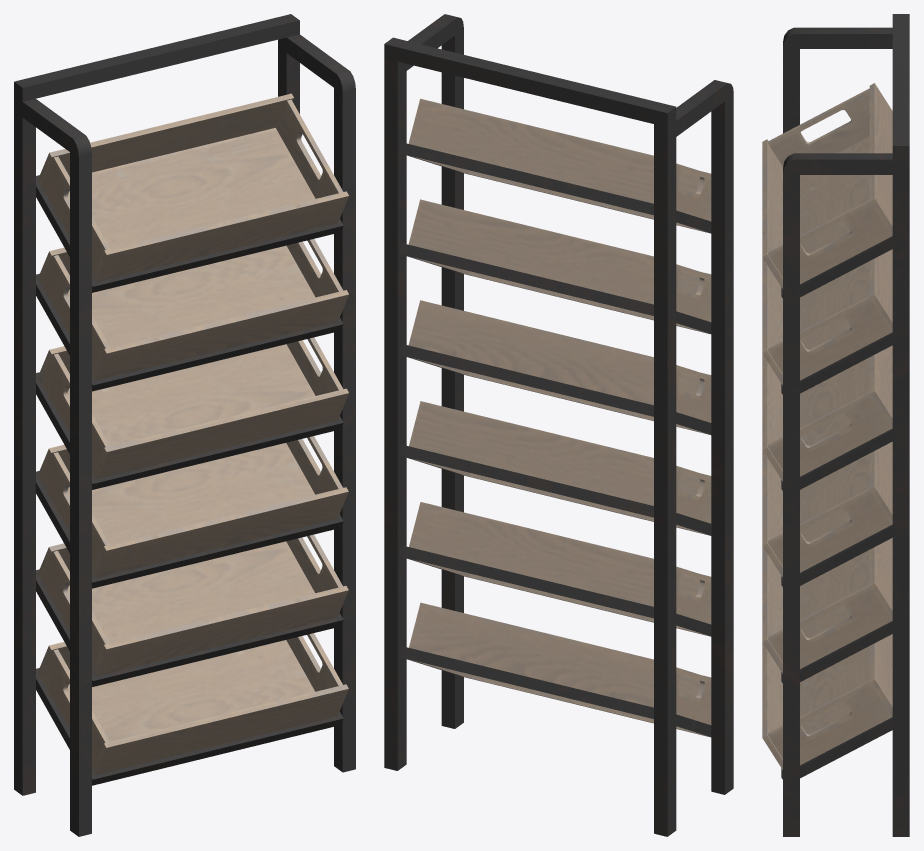
Rendered from SM_Shelving3.fbx.
The picture shows the model from 3 angles, left to right: view 1: azimuth 30°, elevation 25°; view 2: azimuth 150°, elevation 25°; view 3: azimuth 270°, elevation 25°; orthographic projection. The views are drawn at different scales.
Parts seen in each view (by area): view 1: SM_Shelving3_LOD0; view 2: SM_Shelving3_LOD0; view 3: SM_Shelving3_LOD0.
Part boxes in pixels (x1=…): SM_Shelving3_LOD0: x1=14, y1=14, x2=355, y2=836; SM_Shelving3_LOD0: x1=384, y1=14, x2=733, y2=836; SM_Shelving3_LOD0: x1=762, y1=14, x2=909, y2=836.
Size of the model in its own units: 73.56 by 34.67 by 180.
